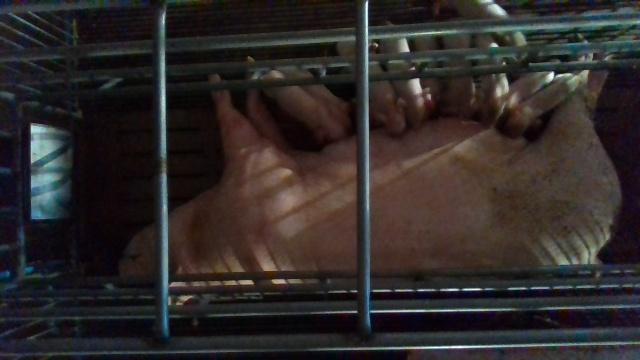piglet: (338, 38, 412, 132), (380, 21, 438, 131), (258, 75, 352, 142), (504, 72, 580, 135), (452, 2, 529, 62), (472, 35, 508, 128), (507, 59, 560, 108), (441, 33, 472, 115)
sow-sleep-lactate: (114, 53, 622, 305)
